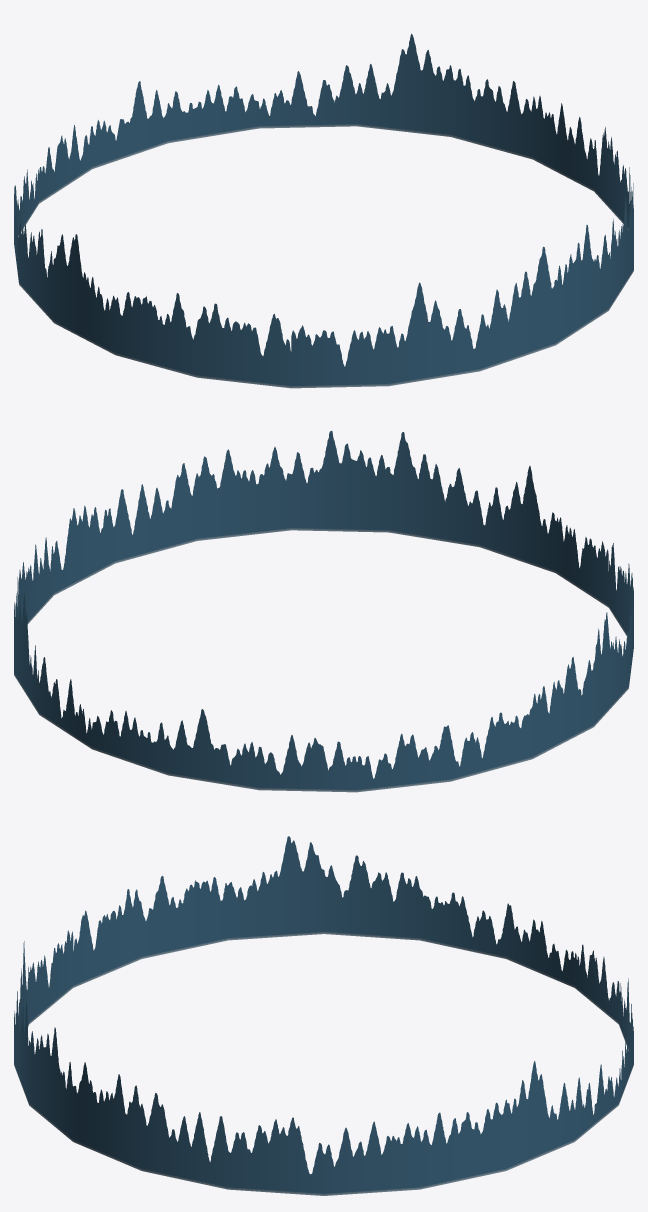
File: inviswall.fbx
3 renders of one model, top to bottom at view 1: azimuth 30°, elevation 25°; view 2: azimuth 150°, elevation 25°; view 3: azimuth 270°, elevation 25°, orthographic.
Visible parts, largest first — view 1: inviswall; view 2: inviswall; view 3: inviswall.
Boxes of the visible parts, x1,y1,x2,y2 form: inviswall: [14, 33, 633, 388]; inviswall: [14, 430, 633, 792]; inviswall: [14, 836, 633, 1195].
Size of the model in its own units: 4163 by 838 by 4163.
1 material, 1 textured.
